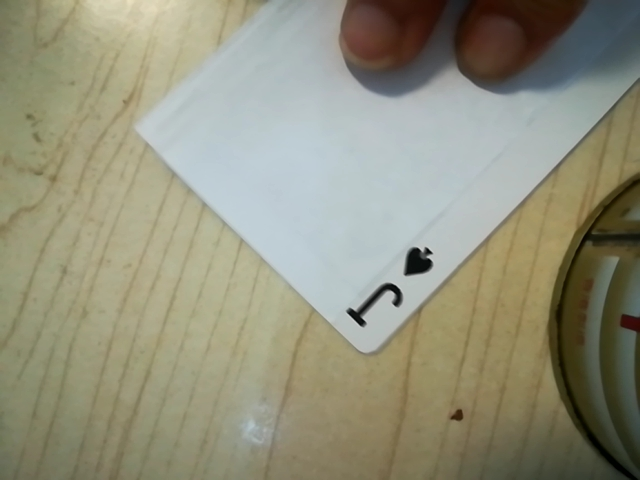ht j: (339, 229, 454, 341)
